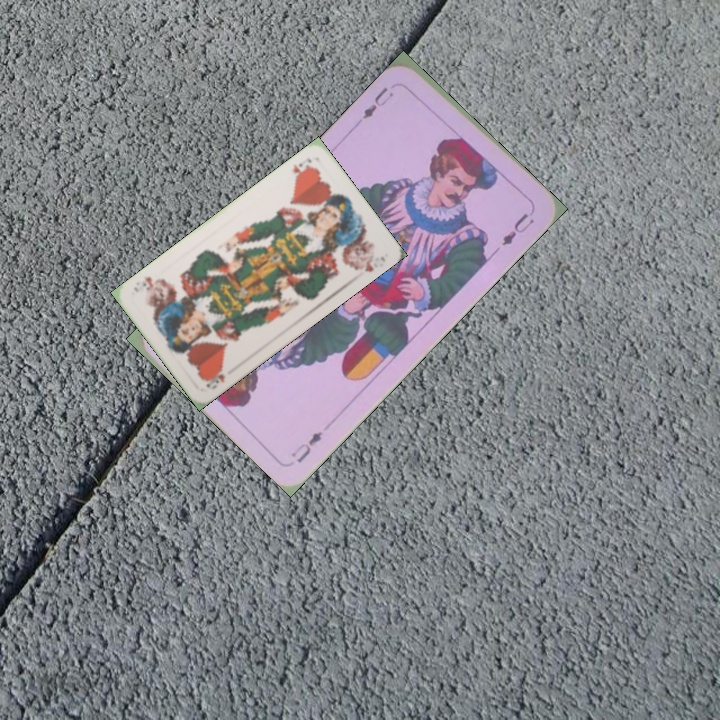EU: (358, 79, 402, 122), (287, 427, 325, 466)
HO: (202, 363, 228, 392), (289, 153, 314, 183)
